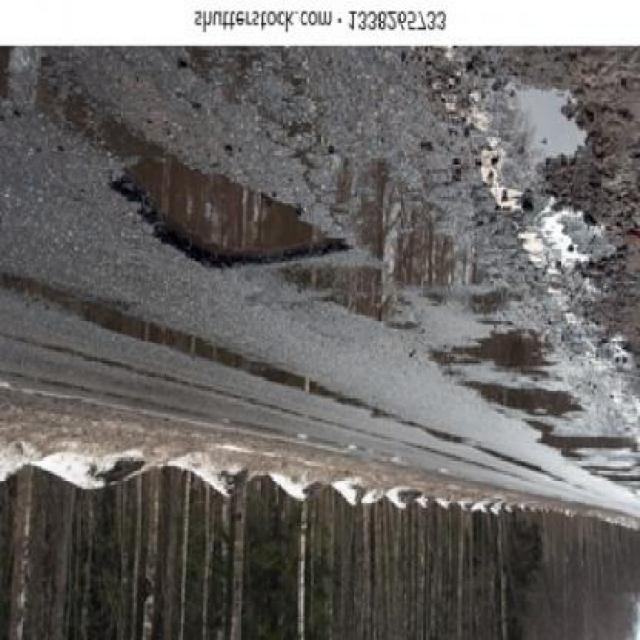pothole: (94, 134, 356, 316)
